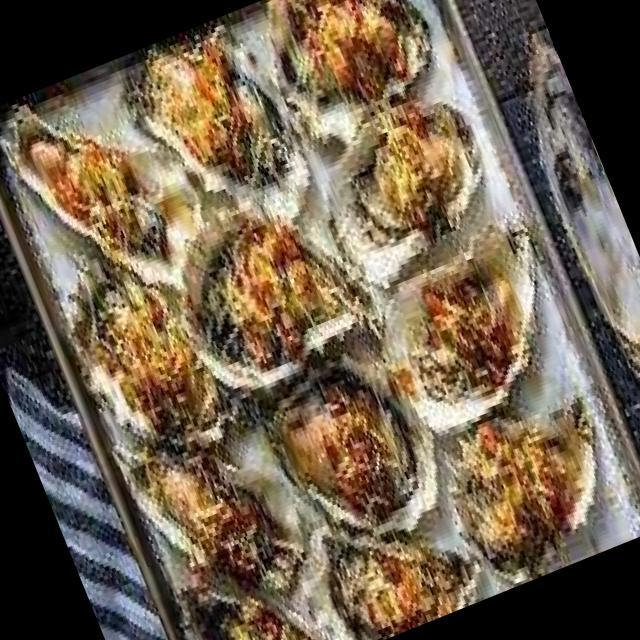Oyster-Open: (105, 27, 332, 246), (46, 259, 243, 456), (374, 236, 566, 433), (0, 95, 206, 278), (185, 210, 379, 383), (262, 353, 448, 533), (323, 96, 509, 247), (138, 433, 320, 584), (426, 402, 604, 556), (306, 526, 505, 640), (262, 0, 432, 133), (157, 574, 317, 640)
